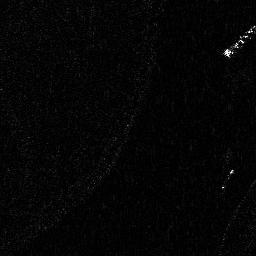ship: (220, 25, 256, 58)
